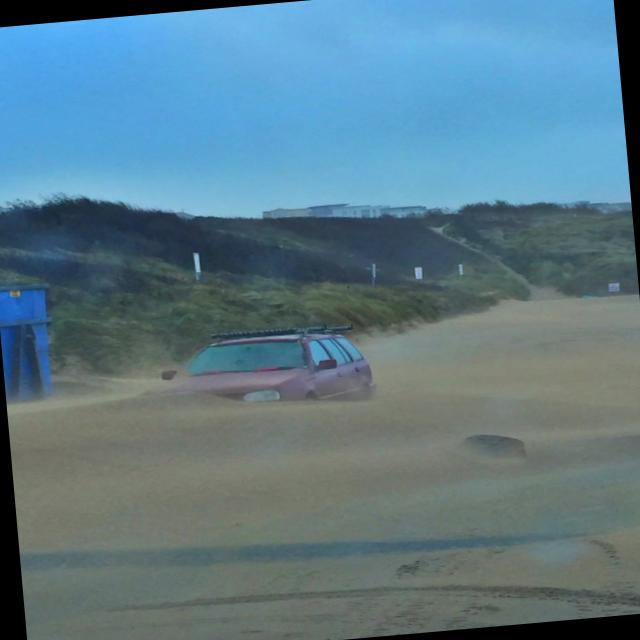car: (166, 323, 375, 412)
